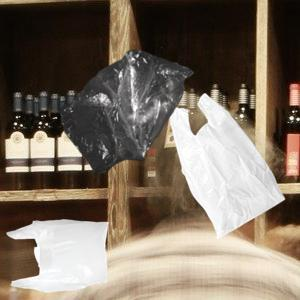plastic_bag: (169, 91, 289, 244), (3, 213, 116, 295)
